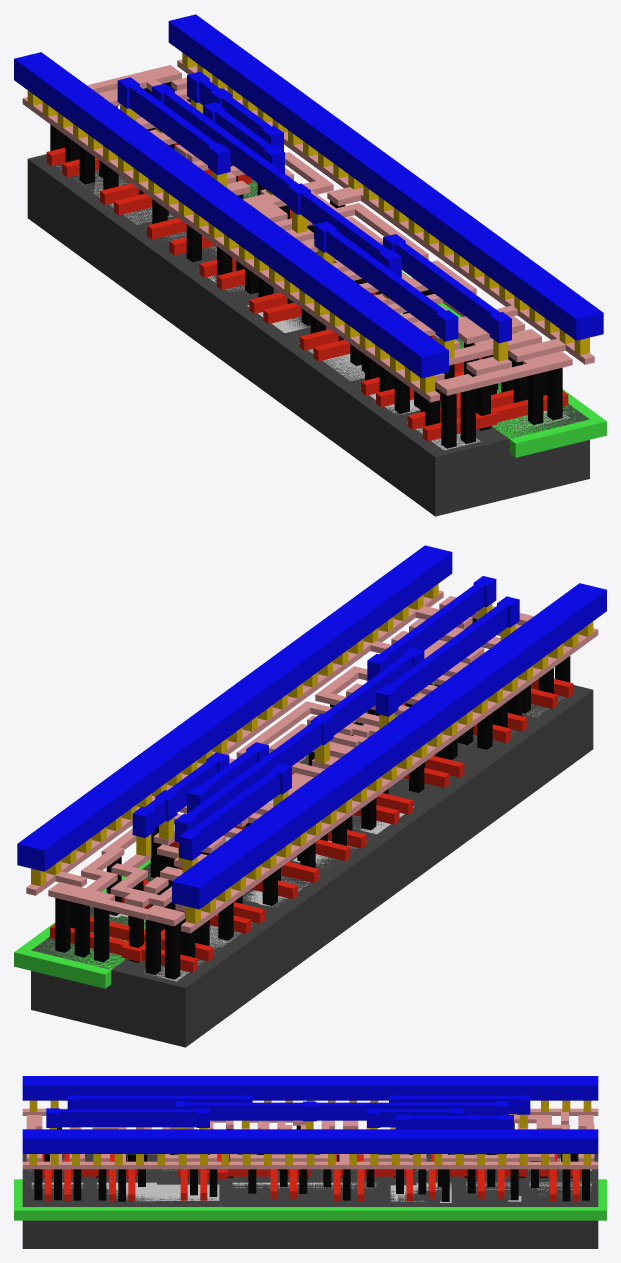
Rendered from sky130_fd_sc_hd__fahcin_1.obj.
3 renders of one model, top to bottom at view 1: azimuth 30°, elevation 25°; view 2: azimuth 150°, elevation 25°; view 3: azimuth 270°, elevation 25°, orthographic. The views are drawn at different scales.
Visible parts, largest first — view 1: metal1, subs, li, licon, mcon, poly, nwell, diff; view 2: metal1, subs, li, licon, mcon, poly, nwell, diff; view 3: metal1, subs, li, nwell, licon, poly, mcon, tap.
Part boxes in pixels (bbox=[...]): metal1: bbox=[14, 14, 603, 378]; subs: bbox=[27, 154, 589, 516]; li: bbox=[22, 59, 594, 402]; licon: bbox=[50, 82, 562, 448]; mcon: bbox=[27, 52, 589, 392]; poly: bbox=[46, 143, 568, 441]; nwell: bbox=[243, 180, 606, 457]; diff: bbox=[56, 164, 480, 450]; metal1: bbox=[17, 545, 606, 909]; subs: bbox=[31, 684, 593, 1047]; li: bbox=[26, 590, 598, 933]; licon: bbox=[55, 618, 570, 979]; mcon: bbox=[31, 583, 593, 923]; poly: bbox=[50, 678, 573, 972]; nwell: bbox=[14, 712, 367, 988]; diff: bbox=[144, 695, 564, 981]; metal1: bbox=[22, 1076, 598, 1153]; subs: bbox=[22, 1154, 598, 1248]; li: bbox=[22, 1108, 598, 1169]; nwell: bbox=[14, 1179, 606, 1220]; licon: bbox=[31, 1123, 589, 1201]; poly: bbox=[42, 1154, 581, 1201]; mcon: bbox=[29, 1100, 591, 1164]; tap: bbox=[31, 1182, 591, 1202].
Size of the model in its own units: 3.2 by 2.74 by 12.8.
